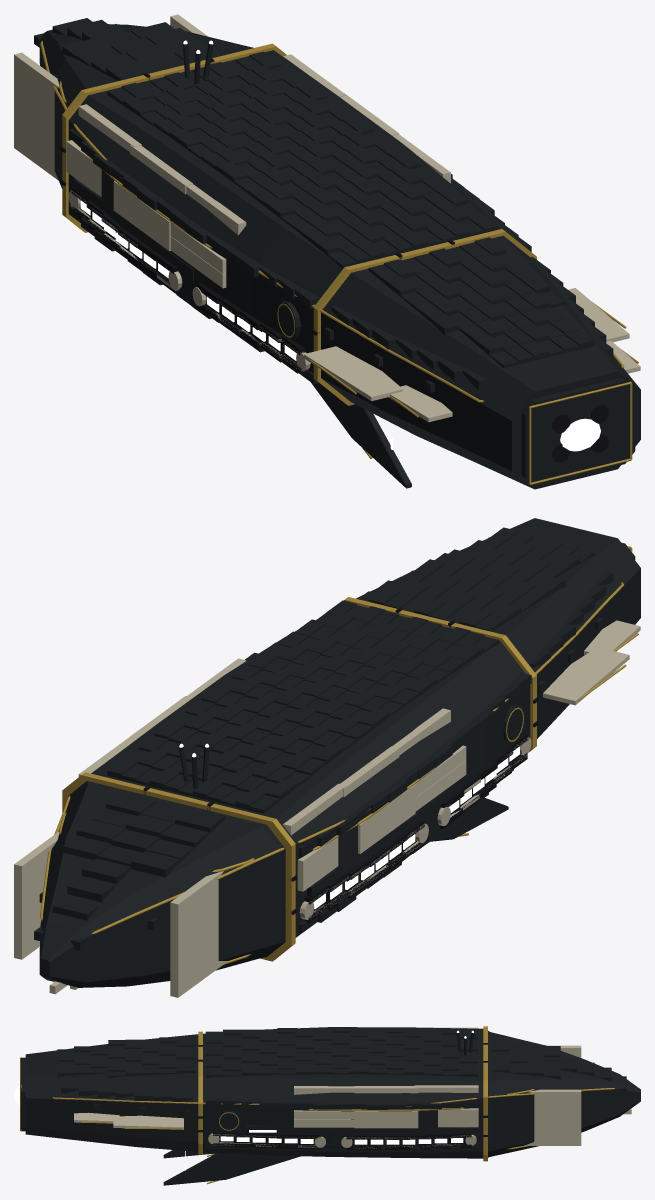
3 views of the same model, one above another, from view 1: azimuth 30°, elevation 25°; view 2: azimuth 150°, elevation 25°; view 3: azimuth 270°, elevation 25° (orthographic). The views are drawn at different scales.
Visible parts, largest first — view 1: RIMWARD_HULL, RIMWARD_EMISSIVE, RIMWARD_ENGINE_GLOW; view 2: RIMWARD_HULL, RIMWARD_EMISSIVE; view 3: RIMWARD_HULL, RIMWARD_EMISSIVE.
Part boxes in pixels (bbox=[...]): RIMWARD_HULL: bbox=[14, 14, 640, 489]; RIMWARD_EMISSIVE: bbox=[80, 40, 393, 449]; RIMWARD_ENGINE_GLOW: bbox=[560, 418, 600, 451]; RIMWARD_HULL: bbox=[14, 518, 640, 997]; RIMWARD_EMISSIVE: bbox=[179, 743, 519, 908]; RIMWARD_HULL: bbox=[20, 1026, 640, 1185]; RIMWARD_EMISSIVE: bbox=[185, 1030, 473, 1170].
Bounding box in the file's own units: 4.77 × 4.04 × 16.46.
